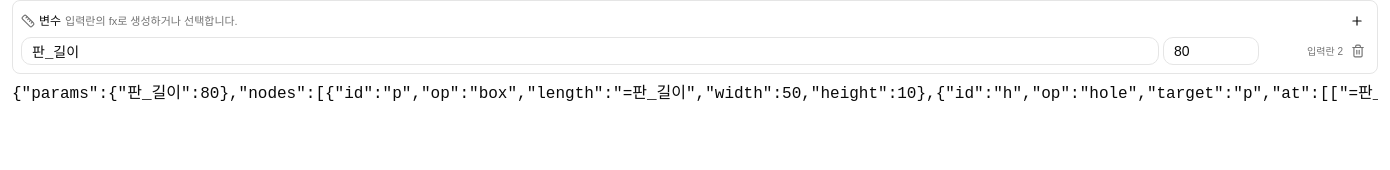
변수가 어느 칸에서 쓰이는지 세어 보여 준다 — 안 쓰이면 그렇게 말한다
The width and height of the screenshot is (1390, 170).
Expected: the text "입력란 2" is shown, [1307,46,1343,56]
Click the button named "변수 생성": (1357, 21) [1345,9,1369,33]
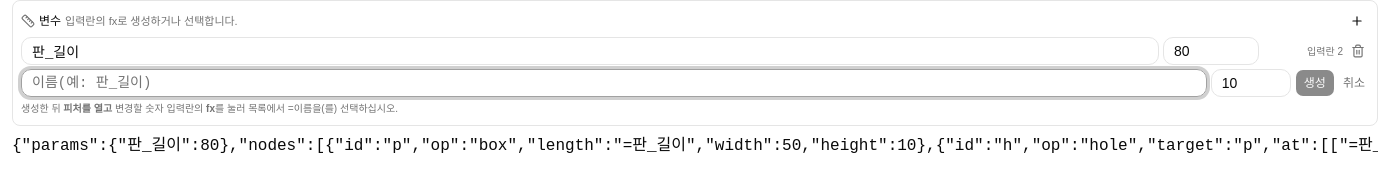
In the field named "새 변수 이름": (614, 83) [21,69,1207,97], type "안쓰는것"
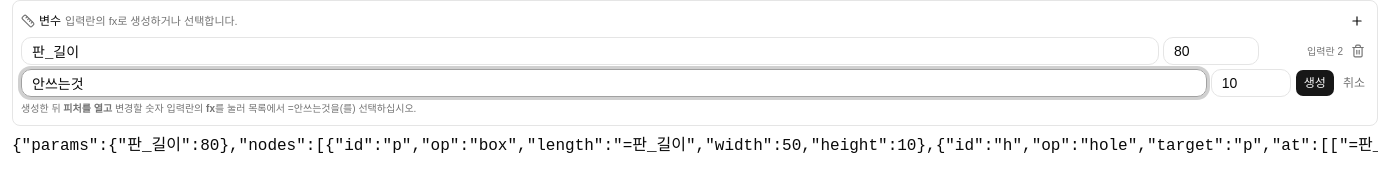
Submit the form named "새 변수 이름", box [21,69,1369,117]
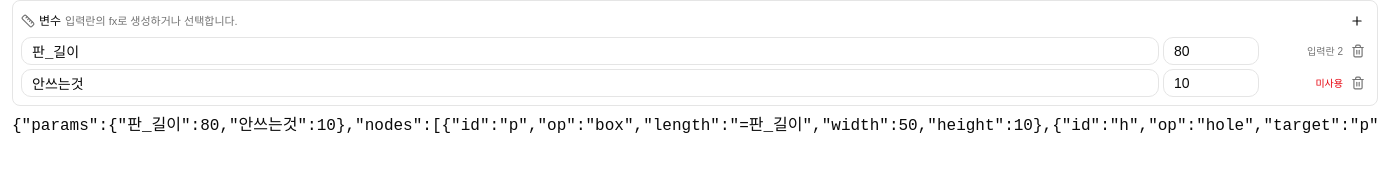
Expected: the text "미사용" is shown, [1315,78,1343,88]
